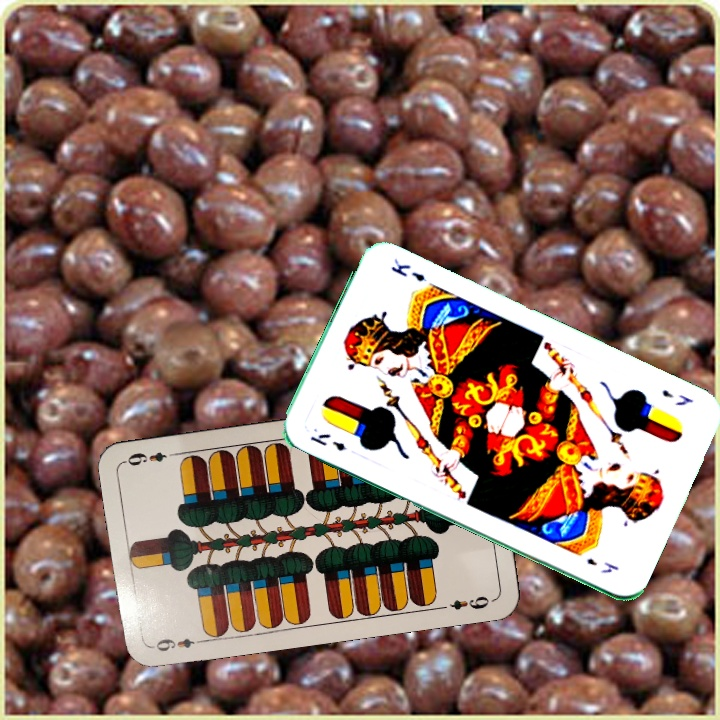E9: (148, 634, 197, 654)
EK: (306, 429, 349, 454), (657, 385, 696, 409)
